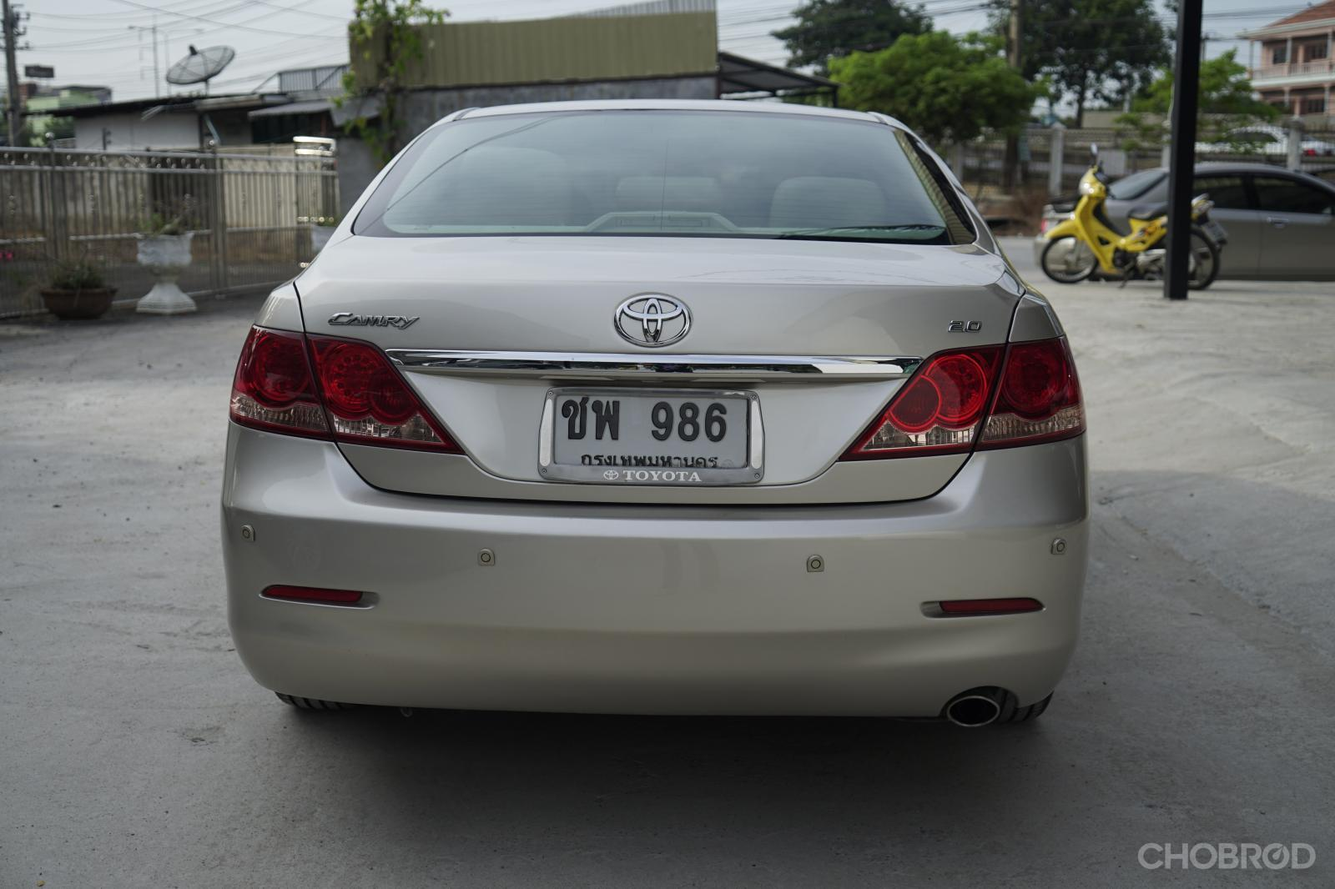license-plate: (531, 371, 774, 502)
